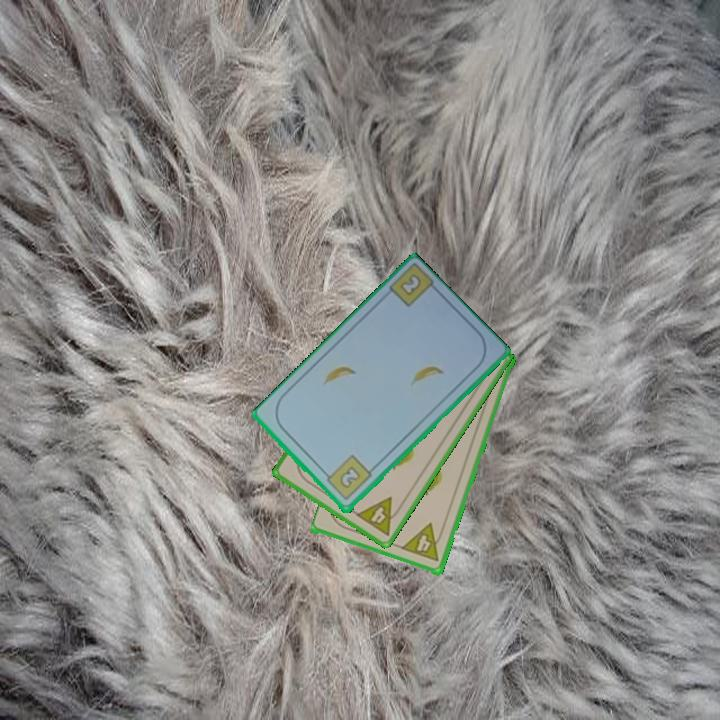2b: (320, 452, 375, 504), (396, 271, 424, 299)
4p: (352, 493, 406, 539), (399, 520, 447, 565)
